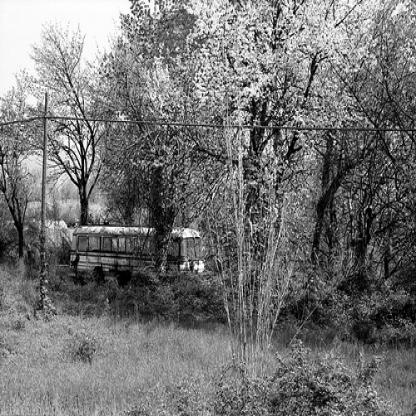bus: (68, 223, 204, 284)
